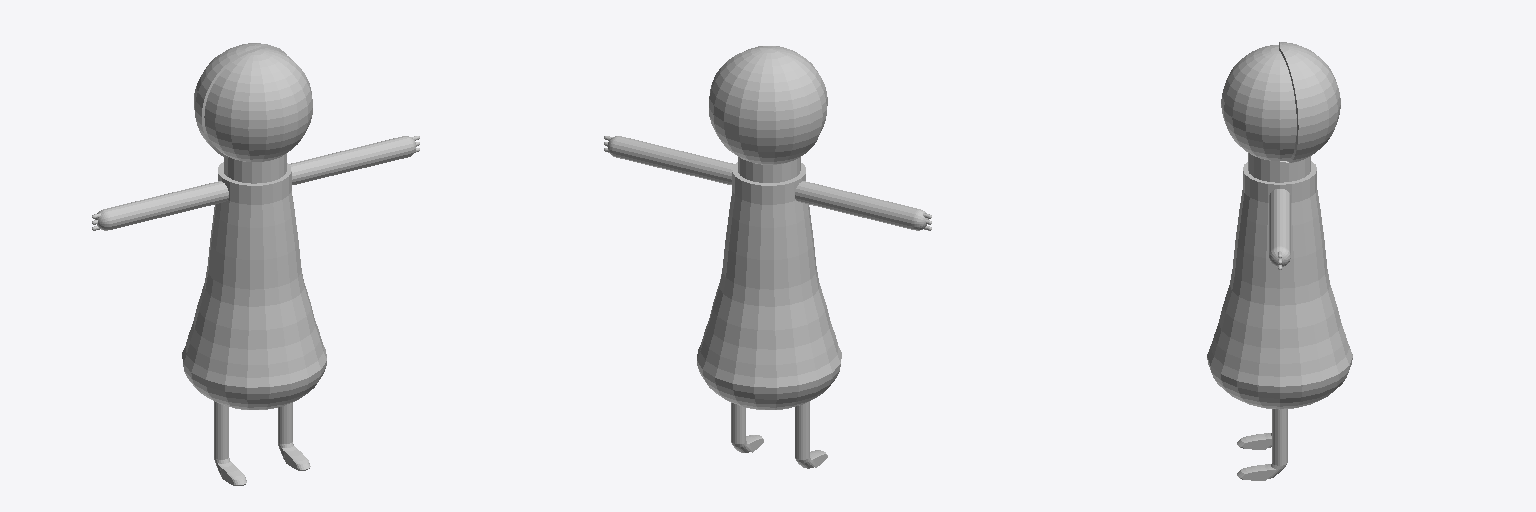
The model's file is npcmasculino1.obj.
The picture shows the model from 3 angles: view 1: azimuth 30°, elevation 25°; view 2: azimuth 150°, elevation 25°; view 3: azimuth 270°, elevation 25°; orthographic projection.
Visible parts, largest first — view 1: pSphere94; view 2: pSphere94; view 3: pSphere94.
Part boxes in pixels (x1,y1,x2,y2): pSphere94: (92, 43, 419, 485); pSphere94: (604, 46, 931, 468); pSphere94: (1207, 42, 1352, 480).
Bounding box in the file's own units: 49.18 × 59.52 × 18.99.